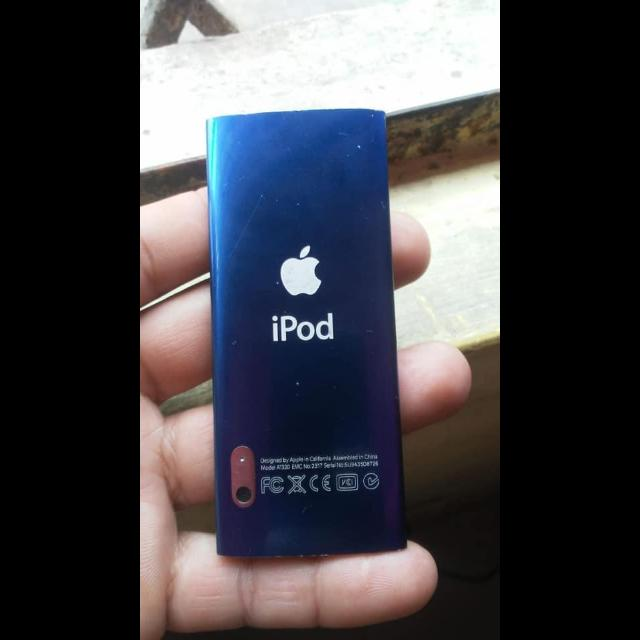Music-Player: (196, 96, 420, 570)
